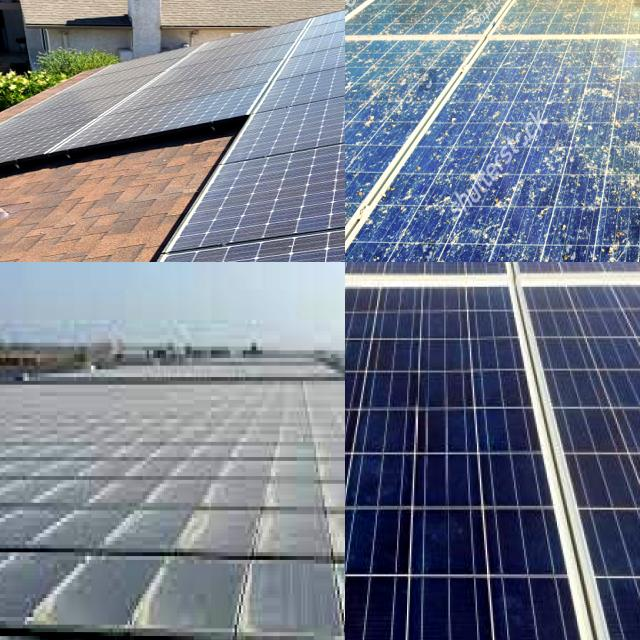bird: (386, 54, 443, 104), (449, 0, 491, 37), (591, 226, 633, 262), (489, 176, 514, 226), (586, 84, 618, 122), (621, 139, 640, 201), (396, 175, 414, 223), (532, 190, 558, 222), (345, 173, 358, 208)
crack: (345, 273, 558, 640)
dust: (2, 518, 101, 640), (255, 112, 345, 238), (217, 536, 318, 636), (126, 540, 200, 628), (326, 545, 345, 627)
